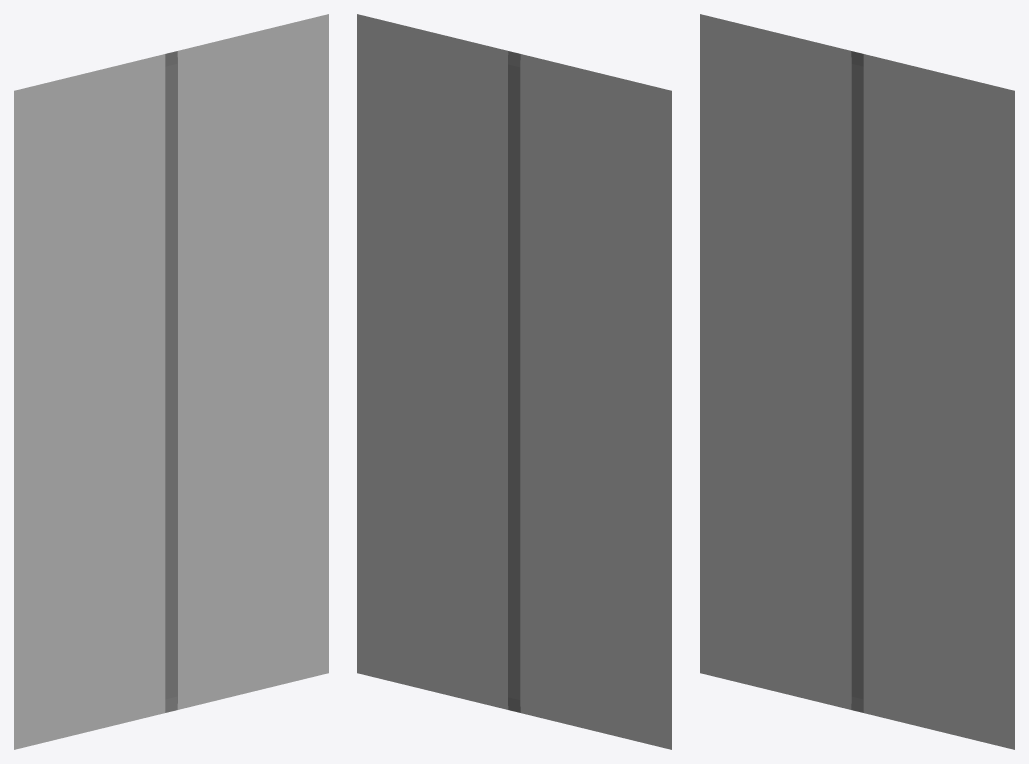
Rendered from Ext-ConcreteSmall.fbx.
3 renders of one model, left to right at view 1: azimuth 30°, elevation 25°; view 2: azimuth 150°, elevation 25°; view 3: azimuth 330°, elevation 25°, orthographic.
Visible parts, largest first — view 1: Ext-ConcreteSmall; view 2: Ext-ConcreteSmall; view 3: Ext-ConcreteSmall.
Part boxes in pixels (box(x1,y1,x2,y2)): Ext-ConcreteSmall: box(14, 14, 328, 749); Ext-ConcreteSmall: box(357, 14, 671, 749); Ext-ConcreteSmall: box(700, 14, 1014, 749).
Bounding box in the file's own units: 100 × 200 × 0.2001.
